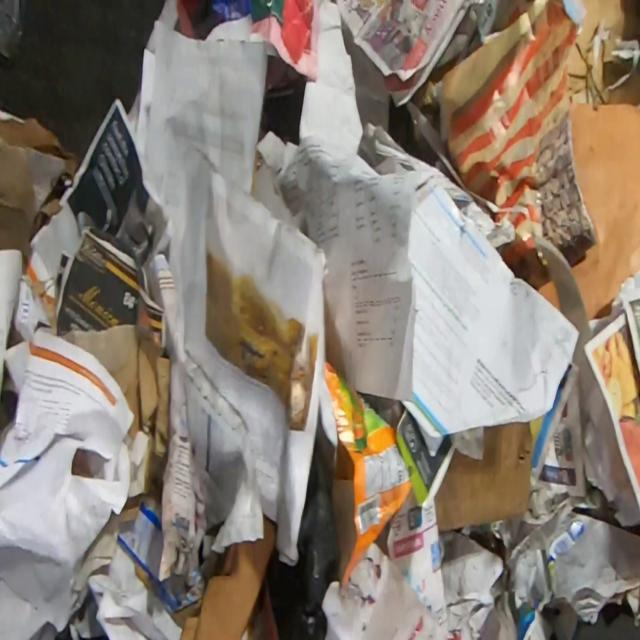cardboard: (504, 486, 640, 639), (566, 97, 639, 322), (57, 322, 173, 462), (169, 512, 278, 639), (0, 108, 82, 262), (432, 421, 534, 535), (564, 0, 639, 105), (396, 408, 456, 511), (512, 248, 562, 312)
rigid_plastic: (0, 0, 24, 63)
soft_plastic: (266, 436, 341, 640), (610, 41, 640, 88)
